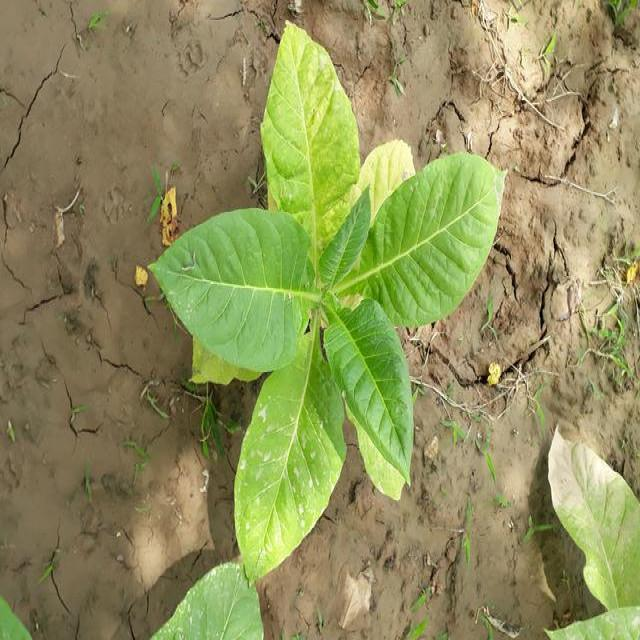crop: (171, 32, 508, 585), (539, 425, 639, 640), (155, 564, 279, 640)
